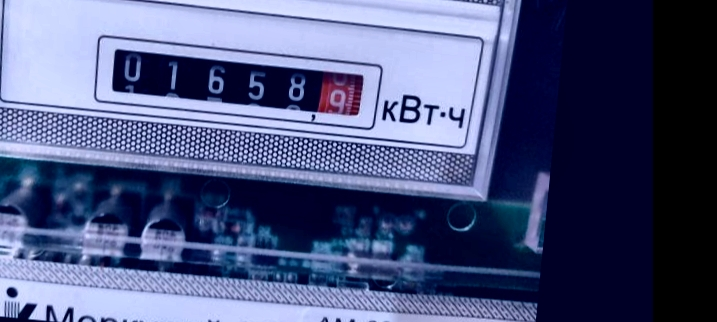0: (121, 51, 144, 83)
1: (163, 58, 183, 92)
5: (245, 68, 269, 101)
6: (205, 61, 228, 96)
8: (286, 69, 309, 103)
9: (325, 87, 348, 117)
screen: (82, 26, 389, 137)
